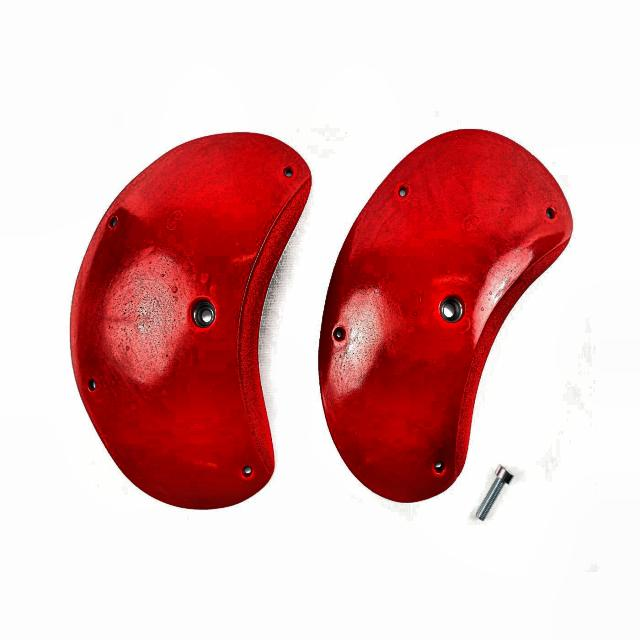Hold: (323, 128, 574, 502), (68, 132, 313, 510)
